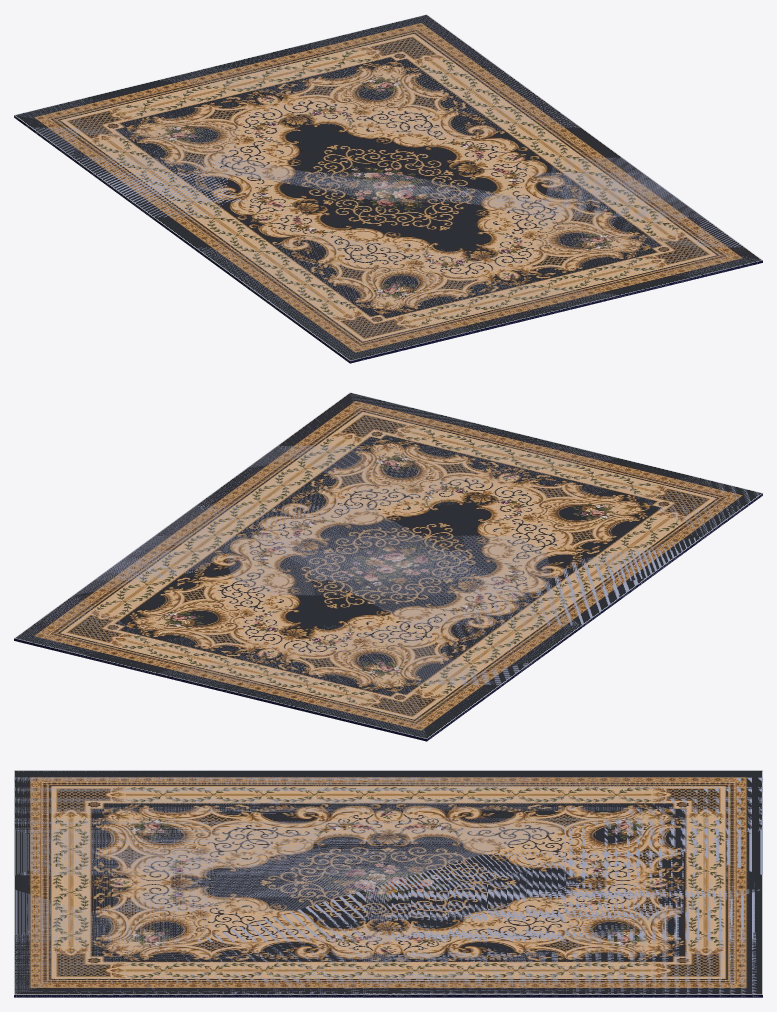
File: Rug.dae
The picture shows the model from 3 angles, top to bottom: view 1: azimuth 30°, elevation 25°; view 2: azimuth 150°, elevation 25°; view 3: azimuth 270°, elevation 25°; orthographic projection. The views are drawn at different scales.
Visible parts, largest first — view 1: group_0 (×2); view 2: group_0 (×2); view 3: group_0 (×2).
Boxes of the visible parts, x1,y1,x2,y2 form: group_0 (×2): (14,14,762,363); group_0 (×2): (14,392,762,741); group_0 (×2): (14,770,762,997).
Size of the model in its own units: 132 by 185 by 0.75.
